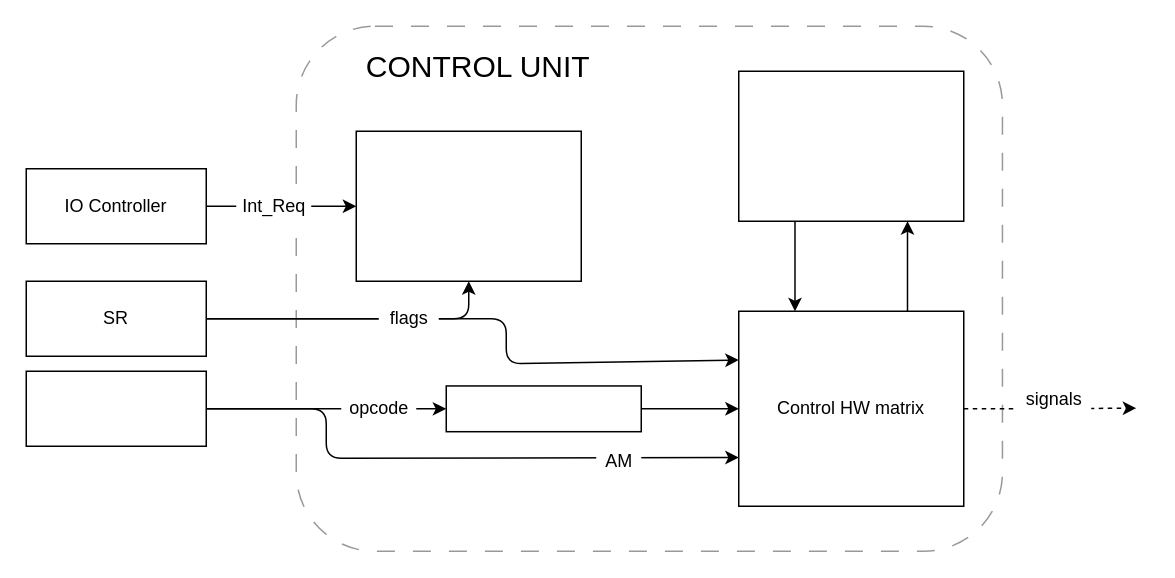
The diagram is 1175 pixels wide and 578 high, and some of its shapes have lost their labels. Here are the shapes that lost their labels. From the top down, the centre of each, then its label:
pixel 850 145: Step counter
pixel 468 205: Interrupt logic
pixel 115 408: IR
pixel 543 408: Instruction Decoder
